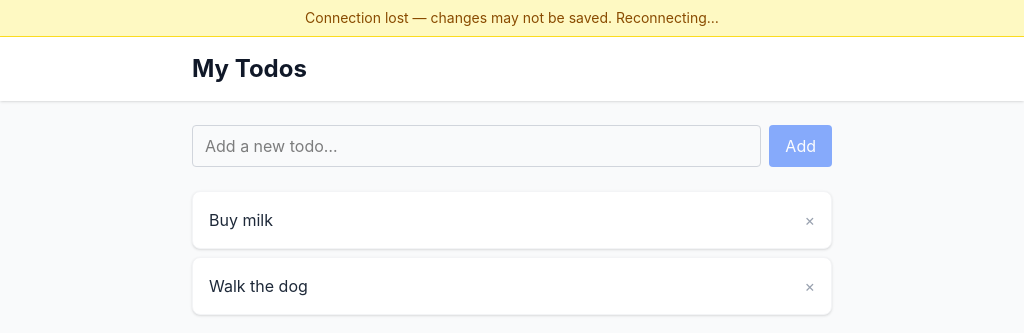
Test case: DashboardPage › removes todo immediately when delete is clicked
expect the text "Buy milk" is shown: met, box [209,210,273,230]
Click the button named "delete buy milk".
click(810, 220)  # box [804,208,815,232]
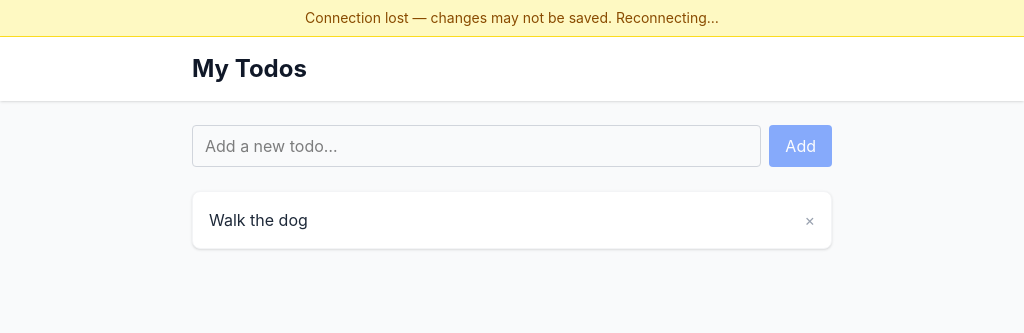
expect the text "Walk the dog" is shown: met, box [209,210,308,230]
expect the text "Buy milk" is gone: met
